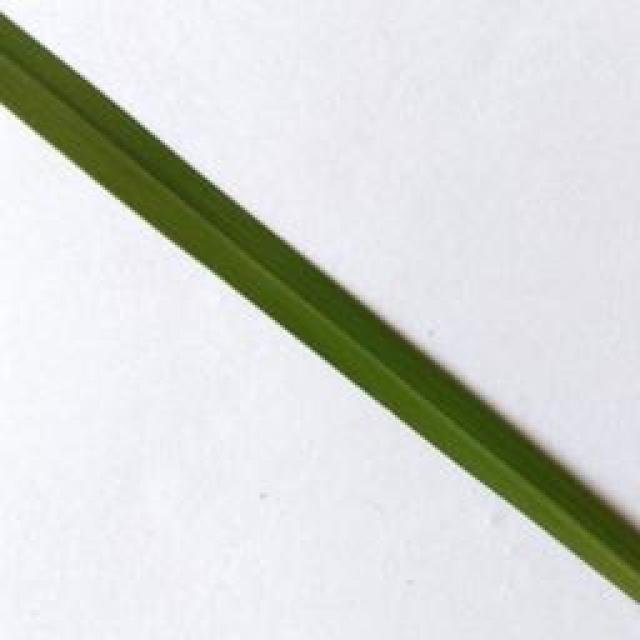Healthy-Plant: (0, 12, 640, 597)
